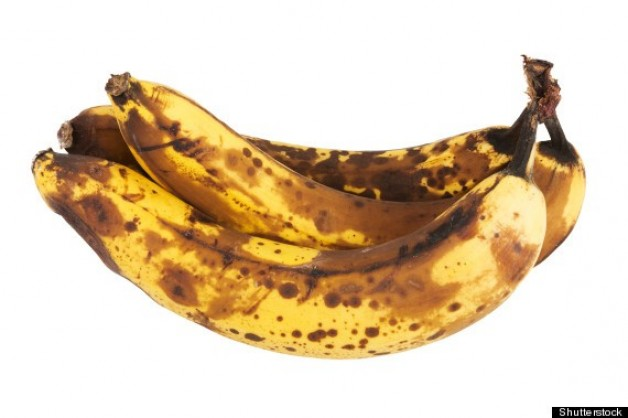banana: (24, 145, 572, 368), (92, 65, 401, 247), (419, 112, 587, 195)
